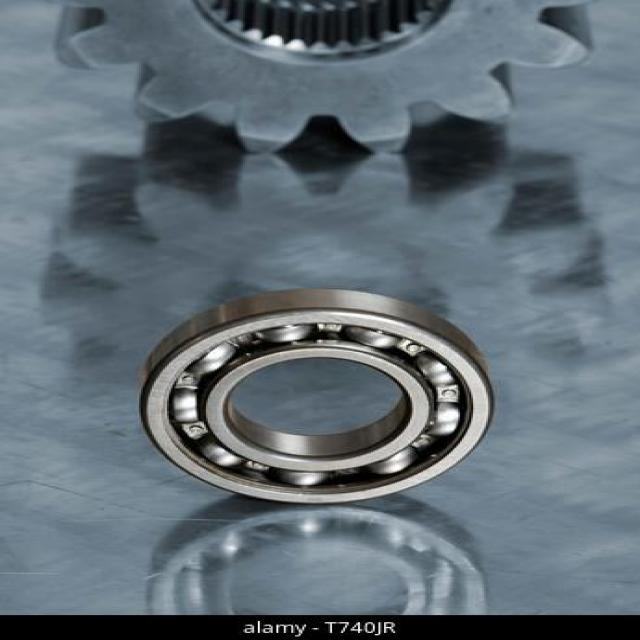Bearing: (135, 290, 498, 507)
Gear: (46, 0, 594, 157)
